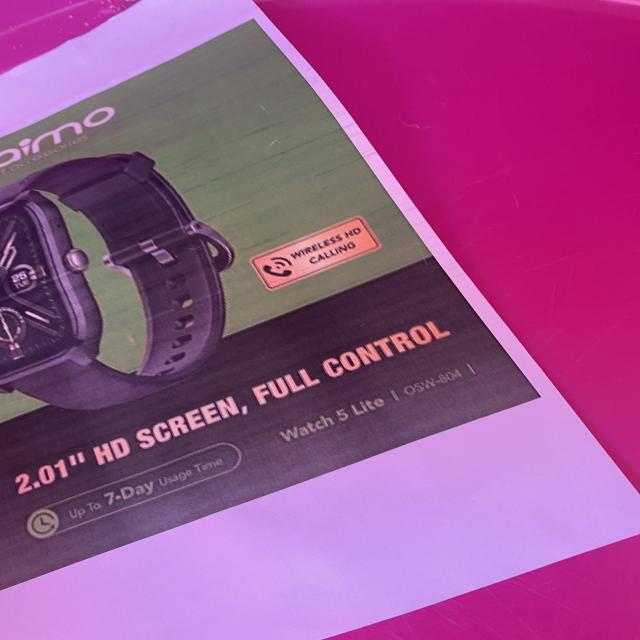Watch 5 Lite OSW-804: (269, 353, 483, 448)
